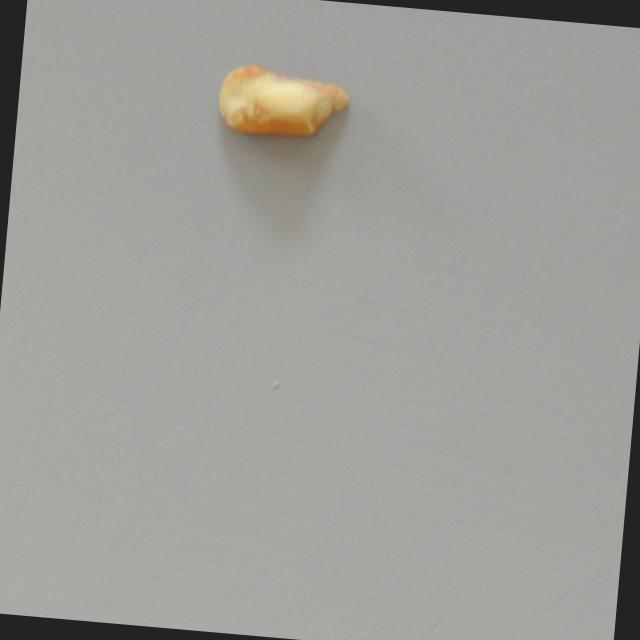dañado: (216, 62, 353, 141)
